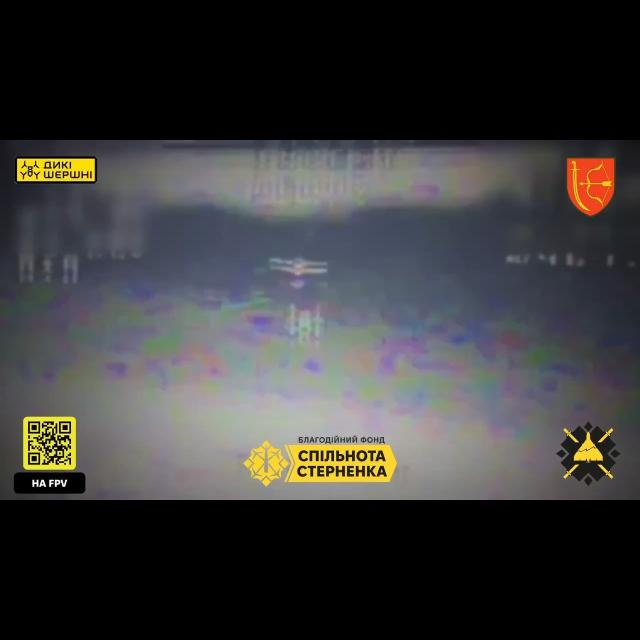Gerbera: (268, 256, 328, 276)
